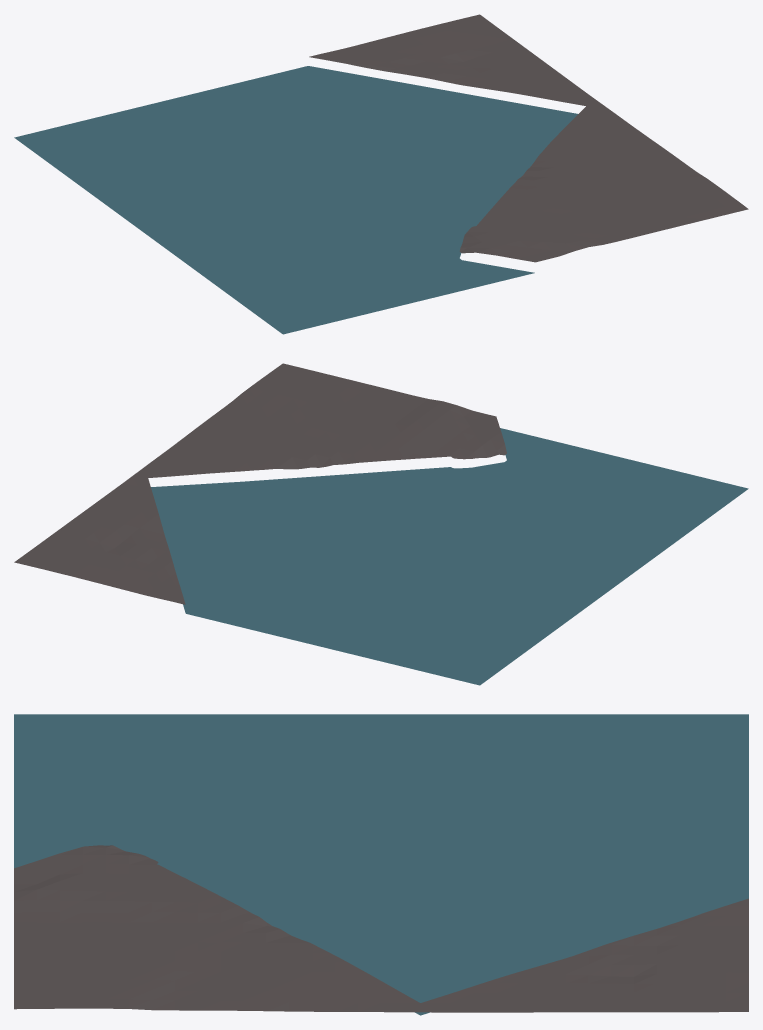
3 renders of one model, top to bottom at view 1: azimuth 30°, elevation 25°; view 2: azimuth 150°, elevation 25°; view 3: azimuth 270°, elevation 25°, orthographic. The views are drawn at different scales.
Parts seen in each view (by area): view 1: c_m12_p10; view 2: c_m12_p10; view 3: c_m12_p10.
Part boxes in pixels (x1=…): c_m12_p10: x1=14, y1=14, x2=748, y2=334; c_m12_p10: x1=14, y1=363, x2=748, y2=685; c_m12_p10: x1=14, y1=714, x2=748, y2=1015.
Size of the model in its own units: 128 by 3.62 by 128.
